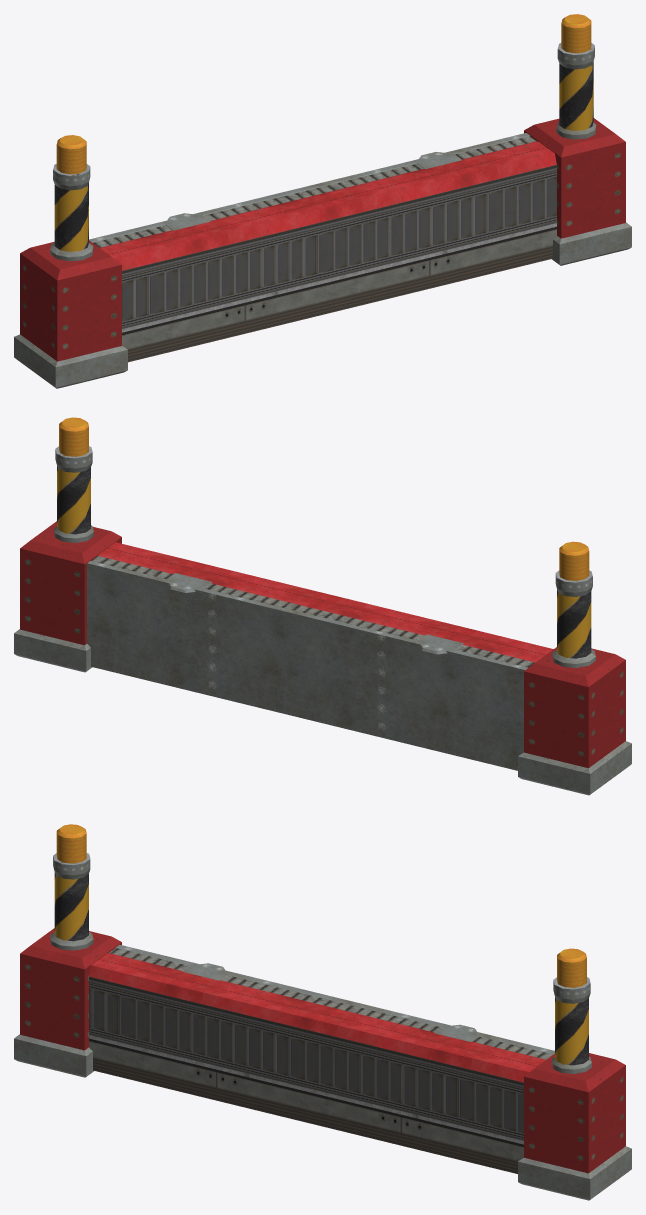
The model's file is Ob_GridPlatformEnd_RC.fbx.
3 renders of one model, top to bottom at view 1: azimuth 30°, elevation 25°; view 2: azimuth 150°, elevation 25°; view 3: azimuth 330°, elevation 25°, orthographic.
Visible parts, largest first — view 1: Ob_GridPlatformEnd_RC; view 2: Ob_GridPlatformEnd_RC; view 3: Ob_GridPlatformEnd_RC.
Boxes of the visible parts, left/top/right/bottom form: Ob_GridPlatformEnd_RC: left=14, top=14, right=631, bottom=388; Ob_GridPlatformEnd_RC: left=14, top=417, right=631, bottom=795; Ob_GridPlatformEnd_RC: left=14, top=824, right=631, bottom=1200.
Bounding box in the file's own units: 1187 × 445 × 149.
